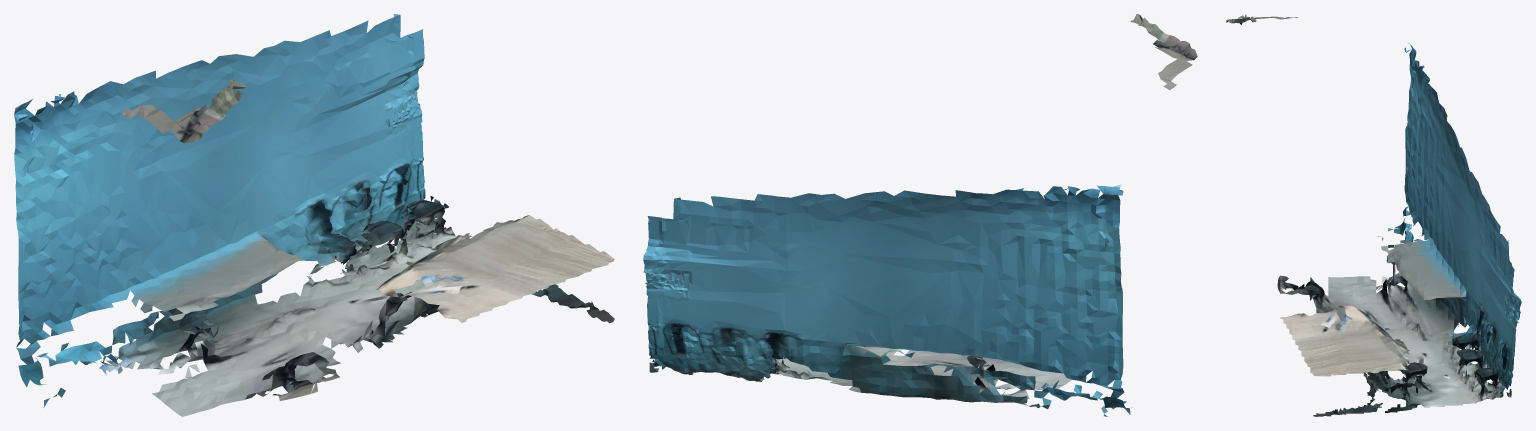
3 views of the same model, side by side, from view 1: azimuth 30°, elevation 25°; view 2: azimuth 150°, elevation 25°; view 3: azimuth 270°, elevation 25° (orthographic). The views are drawn at different scales.
Visible parts, largest first — view 1: mesh; view 2: mesh; view 3: mesh.
Part boxes in pixels (x1=…): mesh: x1=14, y1=14, x2=614, y2=416; mesh: x1=643, y1=14, x2=1197, y2=416; mesh: x1=1226, y1=14, x2=1521, y2=416.
Bounding box in the file's own units: 6.95 × 4.77 × 4.93.
Materials: 1 (1 with a texture image).
